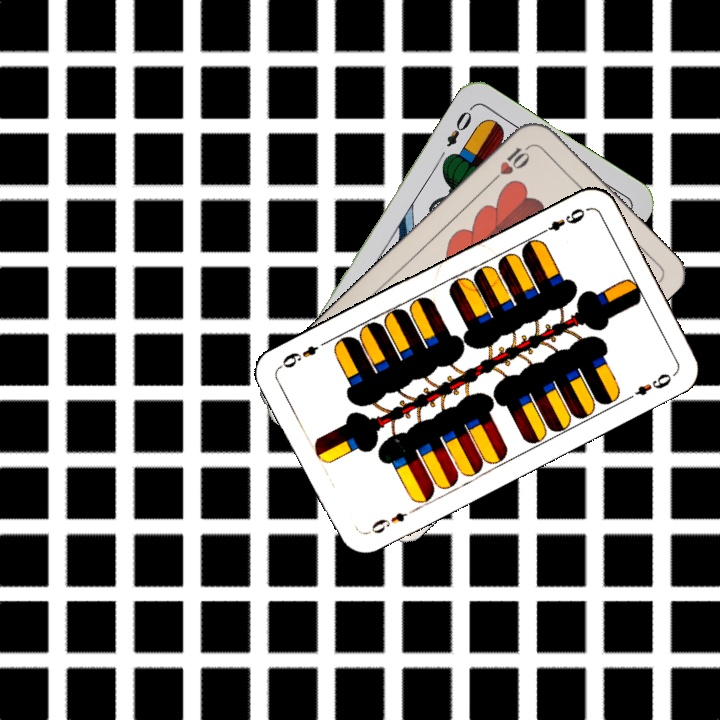E9: (363, 504, 419, 537), (535, 204, 588, 238)
EO: (442, 103, 476, 150)
H10: (487, 140, 535, 185)
